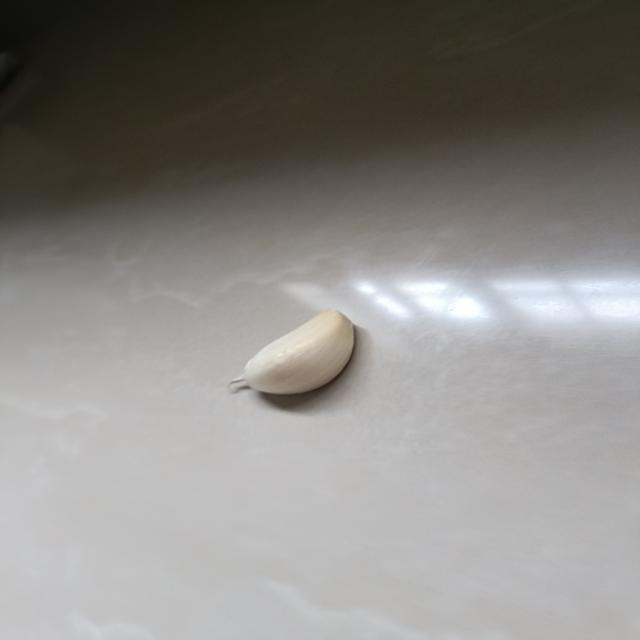garlic: (220, 303, 362, 410)
